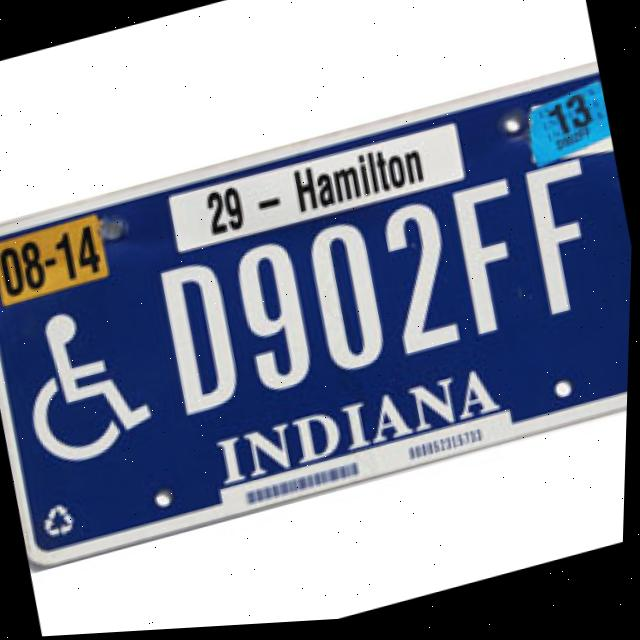symbol_of_access: (10, 289, 169, 480)
